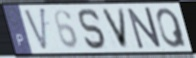6: (53, 8, 80, 51)
N: (126, 6, 163, 51)
Q: (155, 6, 189, 50)
S: (78, 7, 109, 51)
V: (99, 7, 130, 51), (22, 6, 49, 53)
